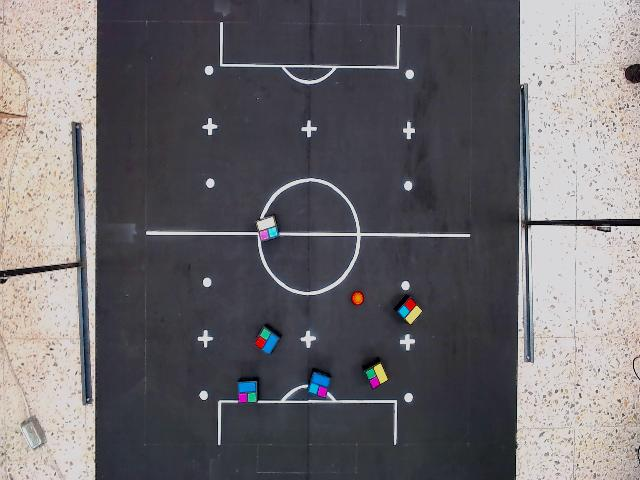robot: (394, 295, 425, 327), (252, 325, 282, 357), (362, 361, 391, 392), (254, 214, 281, 244), (306, 370, 332, 400), (236, 379, 259, 406)
